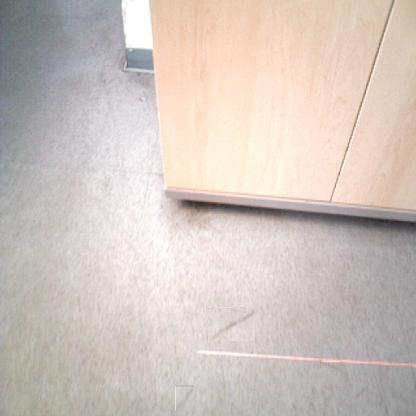mark: (207, 308, 255, 341), (175, 386, 194, 412), (354, 386, 368, 400), (320, 361, 340, 370), (137, 96, 145, 102)
